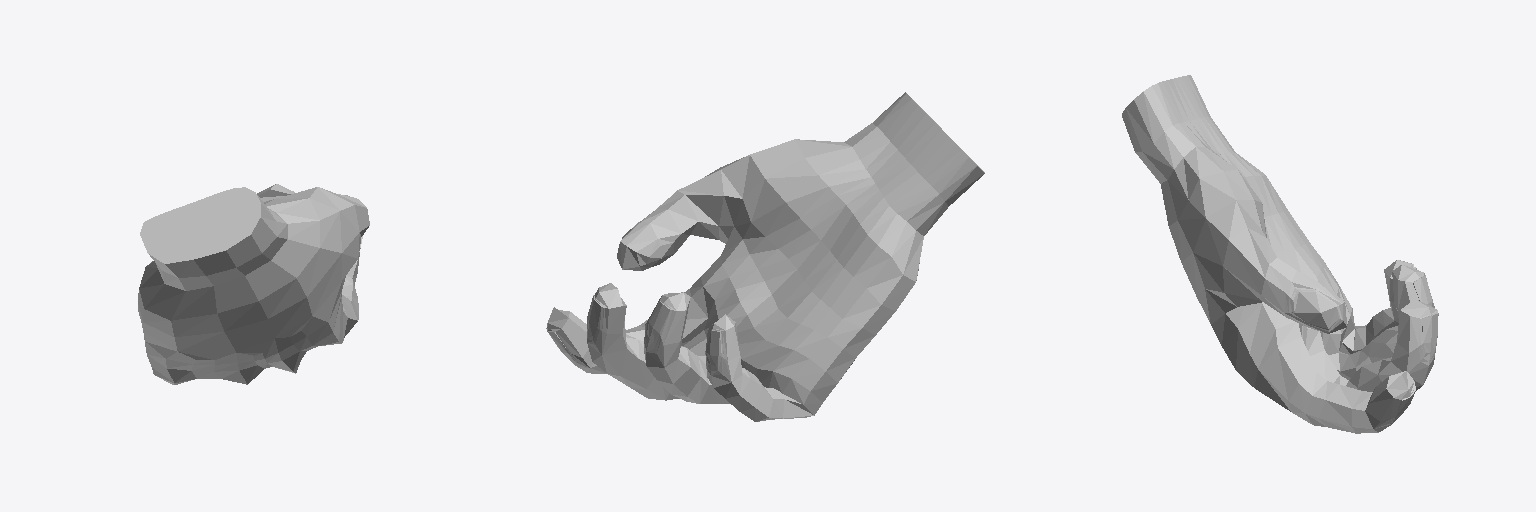
The model's file is hand.obj.
The picture shows the model from 3 angles: view 1: azimuth 30°, elevation 25°; view 2: azimuth 150°, elevation 25°; view 3: azimuth 270°, elevation 25°; orthographic projection.
Parts seen in each view (by area): view 1: Hand_low.002; view 2: Hand_low.002; view 3: Hand_low.002.
Boxes of the visible parts, x1=… form: Hand_low.002: x1=138, y1=184, x2=369, y2=384; Hand_low.002: x1=546, y1=92, x2=984, y2=421; Hand_low.002: x1=1122, y1=75, x2=1438, y2=433.
Size of the model in its own units: 8.52 by 6.69 by 7.19.